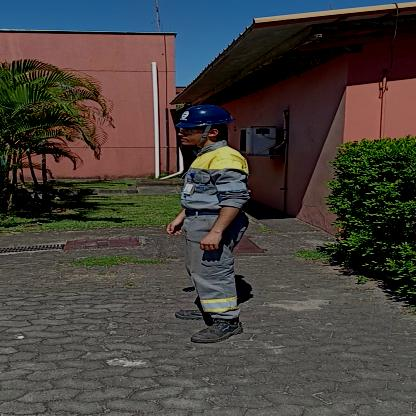Capacete: (170, 102, 235, 125)
